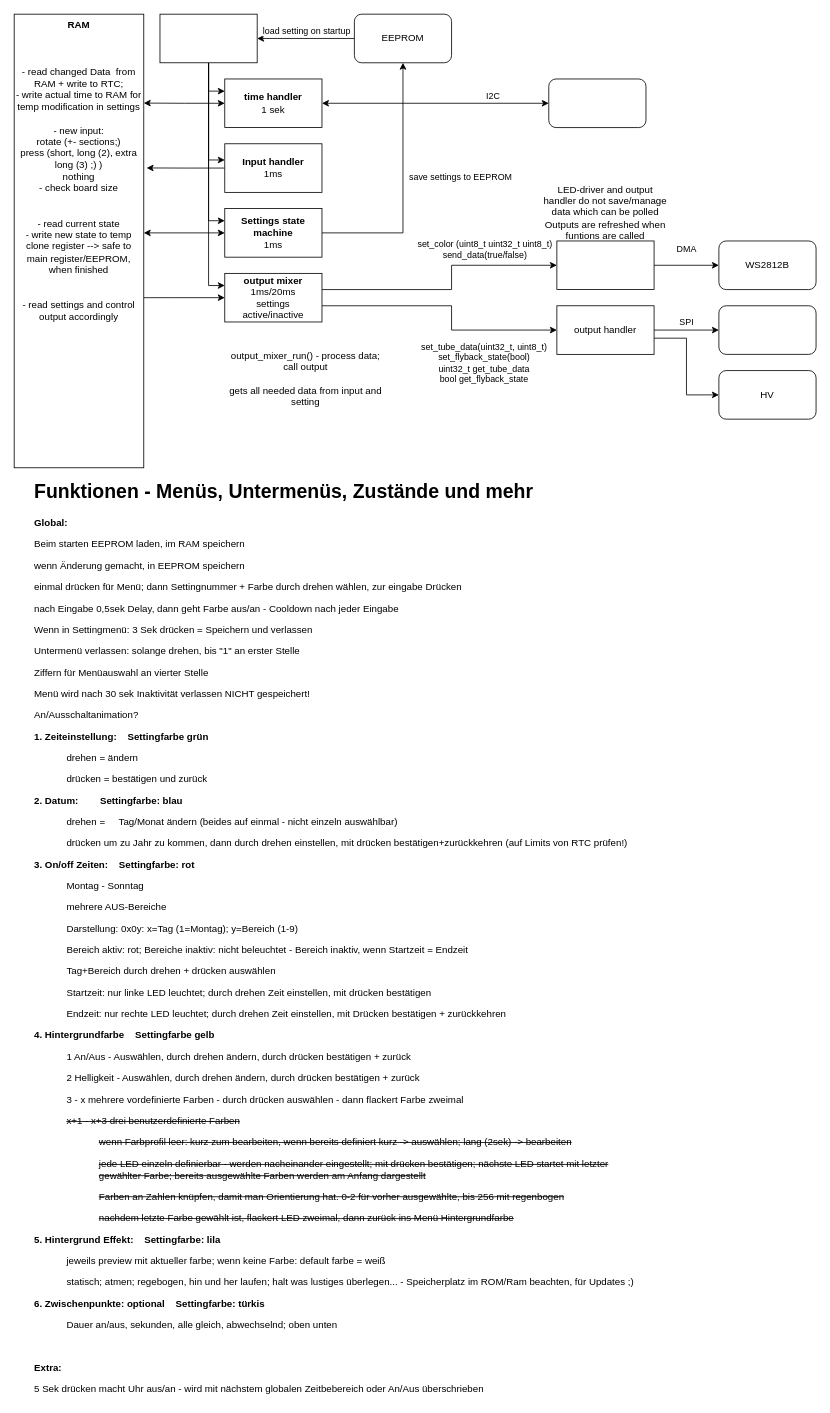
Some shapes in this 830 by 1413 pixel diagram are drawn without their labels. Here are the shapes that lost their labels. From the top down, the box of each, then its label:
(159, 13, 257, 63): main
(548, 78, 646, 128): RTC: DS3231
(556, 240, 654, 290): LED driver
(718, 305, 816, 354): Shift Register
